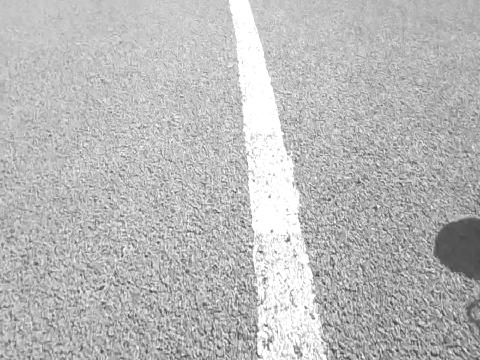Lines: (227, 0, 331, 360)
